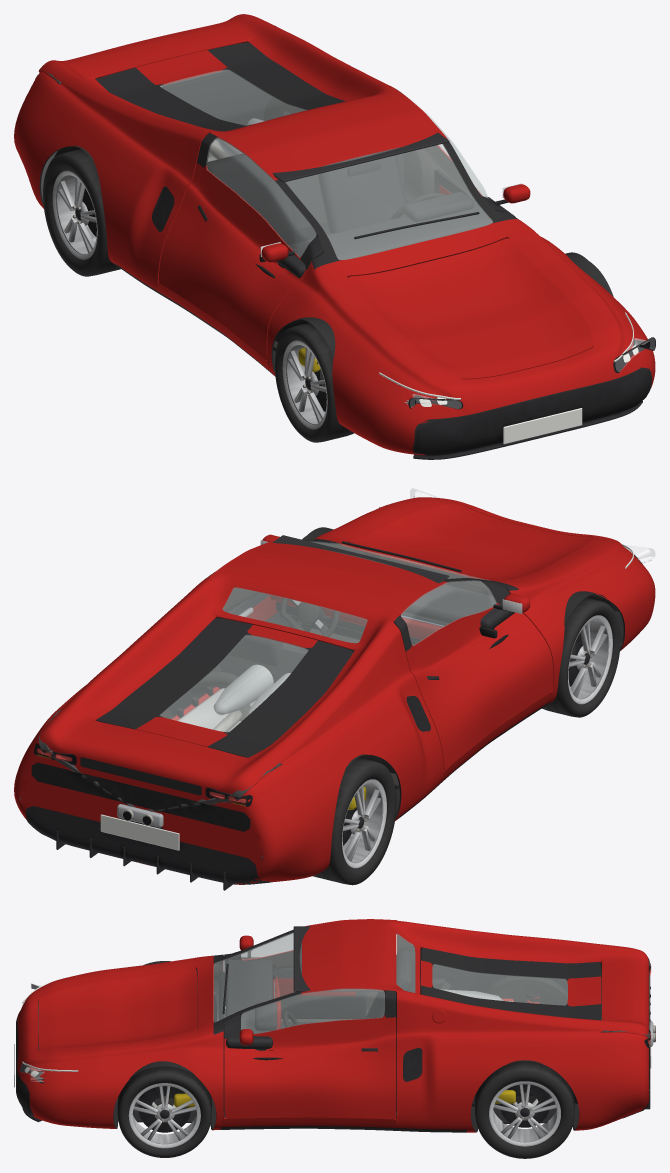
The model's file is ferrari296.glb.
3 views of the same model, one above another, from view 1: azimuth 30°, elevation 25°; view 2: azimuth 150°, elevation 25°; view 3: azimuth 270°, elevation 25° (orthographic). The views are drawn at different scales.
Parts seen in each view (by area): view 1: Body, Hood, Door_FR, Windshield, Tailgate, Intake_Mesh, Door_FR_Glass, Seat_FL_Back, Dash_Top, Tailgate_Glass, Wheel_RR_Tire, Seat_FR_Back (+14 smaller); view 2: Body, Door_FR, Tailgate, Hood, Tailgate_Glass, Diffuser, Rear_Vents, RearScreen, Wheel_RR_Tire, Door_FR_Glass, Wheel_FR_Tire, Dash_Top (+14 smaller); view 3: Body, Door_FL, Hood, Tailgate, Windshield, Wheel_RL_Tire, Door_FL_Glass, Tailgate_Glass, Wheel_FL_Tire, Dash_Top, Door_FR_Card, WheelWell_RR (+17 smaller).
Part boxes in pixels (box(x1,y1,x2,y2)): Body: box(14, 14, 655, 455); Hood: box(348, 238, 593, 379); Door_FR: box(158, 133, 323, 359); Windshield: box(285, 144, 492, 259); Tailgate: box(96, 42, 345, 131); Intake_Mesh: box(417, 371, 650, 455); Door_FR_Glass: box(206, 137, 316, 257); Seat_FL_Back: box(318, 155, 406, 233); Dash_Top: box(276, 197, 515, 277); Tailgate_Glass: box(160, 69, 306, 125); Wheel_RR_Tire: box(43, 149, 120, 276); Seat_FR_Back: box(207, 153, 299, 244); Body: box(14, 497, 655, 884); Door_FR: box(394, 581, 553, 770); Tailgate: box(96, 618, 352, 757); Hood: box(348, 504, 593, 580); Tailgate_Glass: box(160, 635, 308, 731); Diffuser: box(25, 806, 271, 884); Rear_Vents: box(31, 762, 250, 831); RearScreen: box(223, 587, 367, 642); Wheel_RR_Tire: box(312, 757, 396, 885); Door_FR_Glass: box(401, 580, 496, 645); Wheel_FR_Tire: box(542, 597, 620, 717); Dash_Top: box(404, 584, 514, 629); Body: box(17, 919, 650, 1132); Door_FL: box(224, 990, 396, 1119); Hood: box(38, 968, 197, 1049); Tailgate: box(421, 948, 601, 1020); Windshield: box(213, 932, 301, 1021); Wheel_RL_Tire: box(475, 1061, 574, 1158); Door_FL_Glass: box(241, 988, 384, 1033); Tailgate_Glass: box(432, 964, 567, 1005); Wheel_FL_Tire: box(117, 1066, 211, 1157); Dash_Top: box(225, 957, 272, 1048); Door_FR_Card: box(276, 969, 366, 1018); WheelWell_RR: box(482, 976, 567, 1005).
Size of the model in its own units: 1.95 by 1.21 by 4.63.
